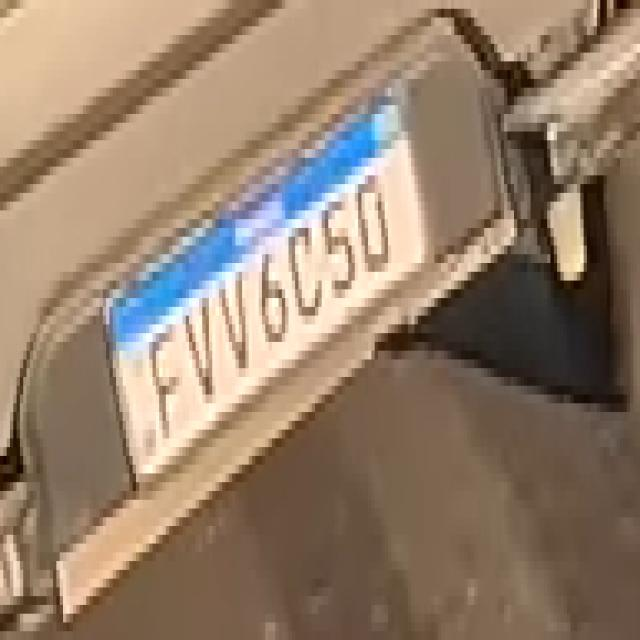Placa_mercosul_carro: (101, 79, 436, 499)
